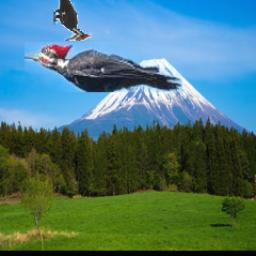Woodpecker: (25, 43, 182, 93), (53, 0, 92, 41)
